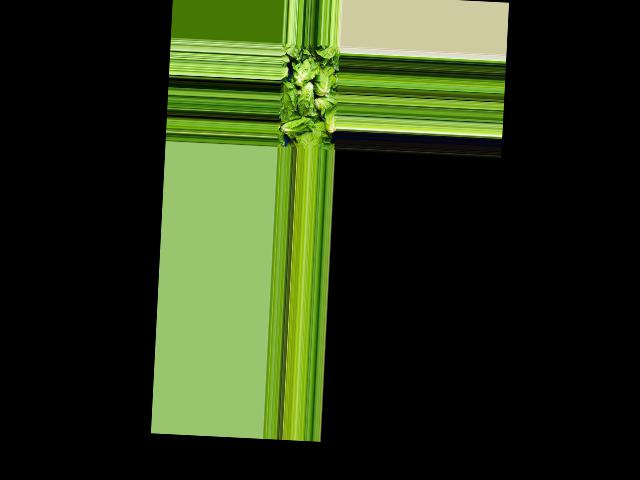lettuce: (322, 102, 337, 138)
